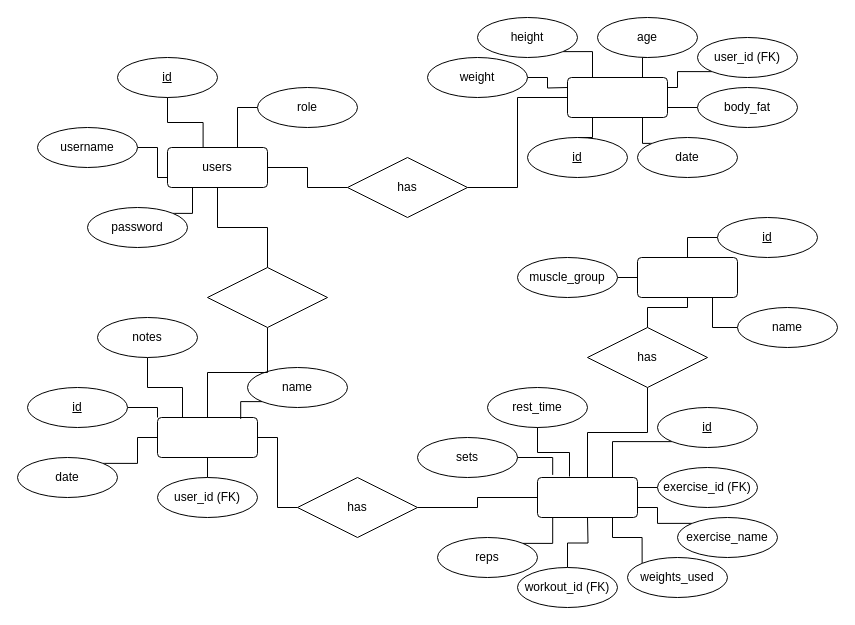
This 855x625 diagram has some shape labels left out. Here are the shapes that lost their labels. From the top down, the centre of each, then its label:
At pixel 617 97: "body_metrics".
At pixel 267 297: "performs".
At pixel 687 277: "exercises".
At pixel 207 437: "workouts".
At pixel 587 497: "workout_items".
